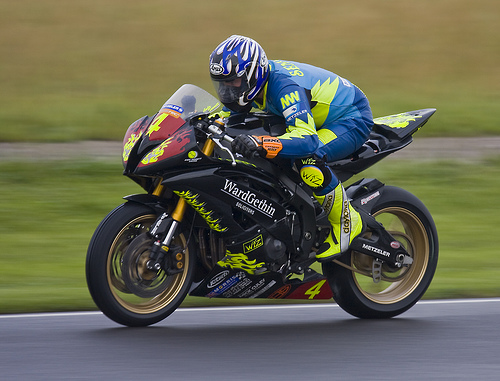helmet: (205, 40, 268, 89)
